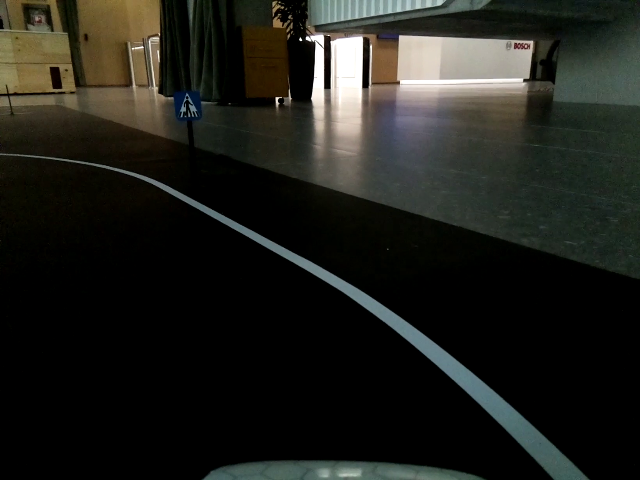pedestrians: (172, 91, 204, 120)
